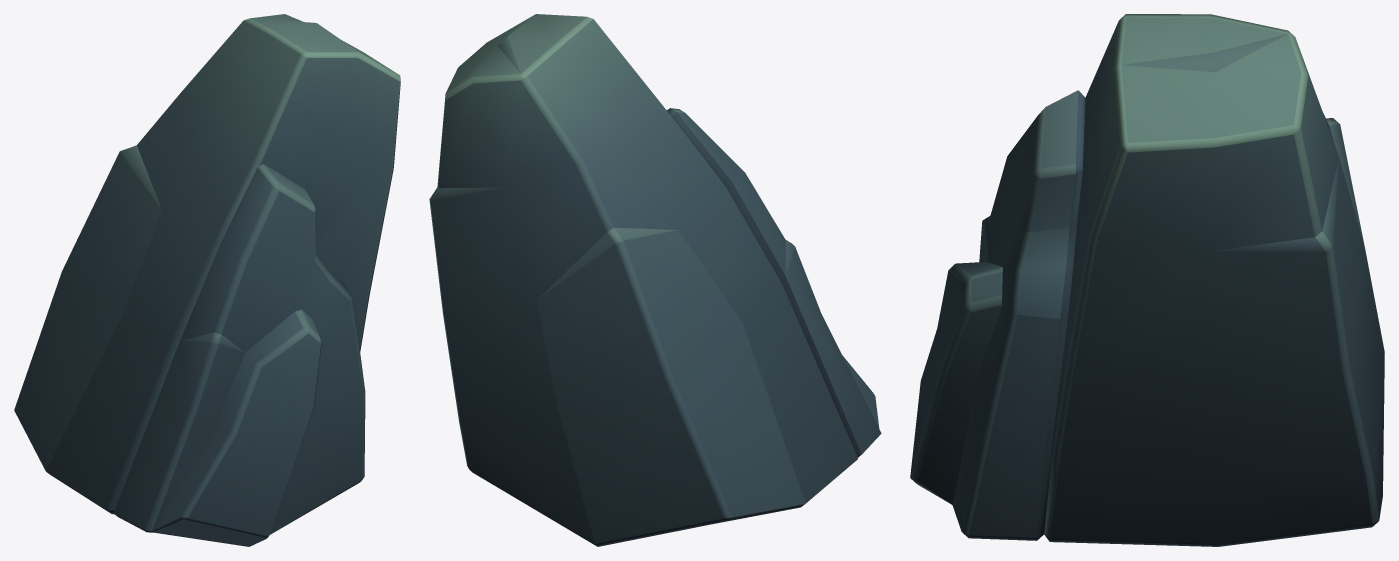
File: rock_29.fbx
3 views of the same model, side by side, from view 1: azimuth 30°, elevation 25°; view 2: azimuth 150°, elevation 25°; view 3: azimuth 270°, elevation 25° (orthographic). The views are drawn at different scales.
Parts seen in each view (by area): view 1: rock_29; view 2: rock_29; view 3: rock_29.
Part boxes in pixels (bbox=[...]): rock_29: bbox=[14, 14, 400, 546]; rock_29: bbox=[429, 14, 881, 546]; rock_29: bbox=[910, 14, 1384, 546].
Size of the model in its own units: 871 by 1084 by 805.
